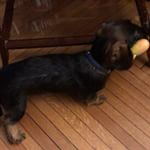puppy: (1, 20, 139, 147)
